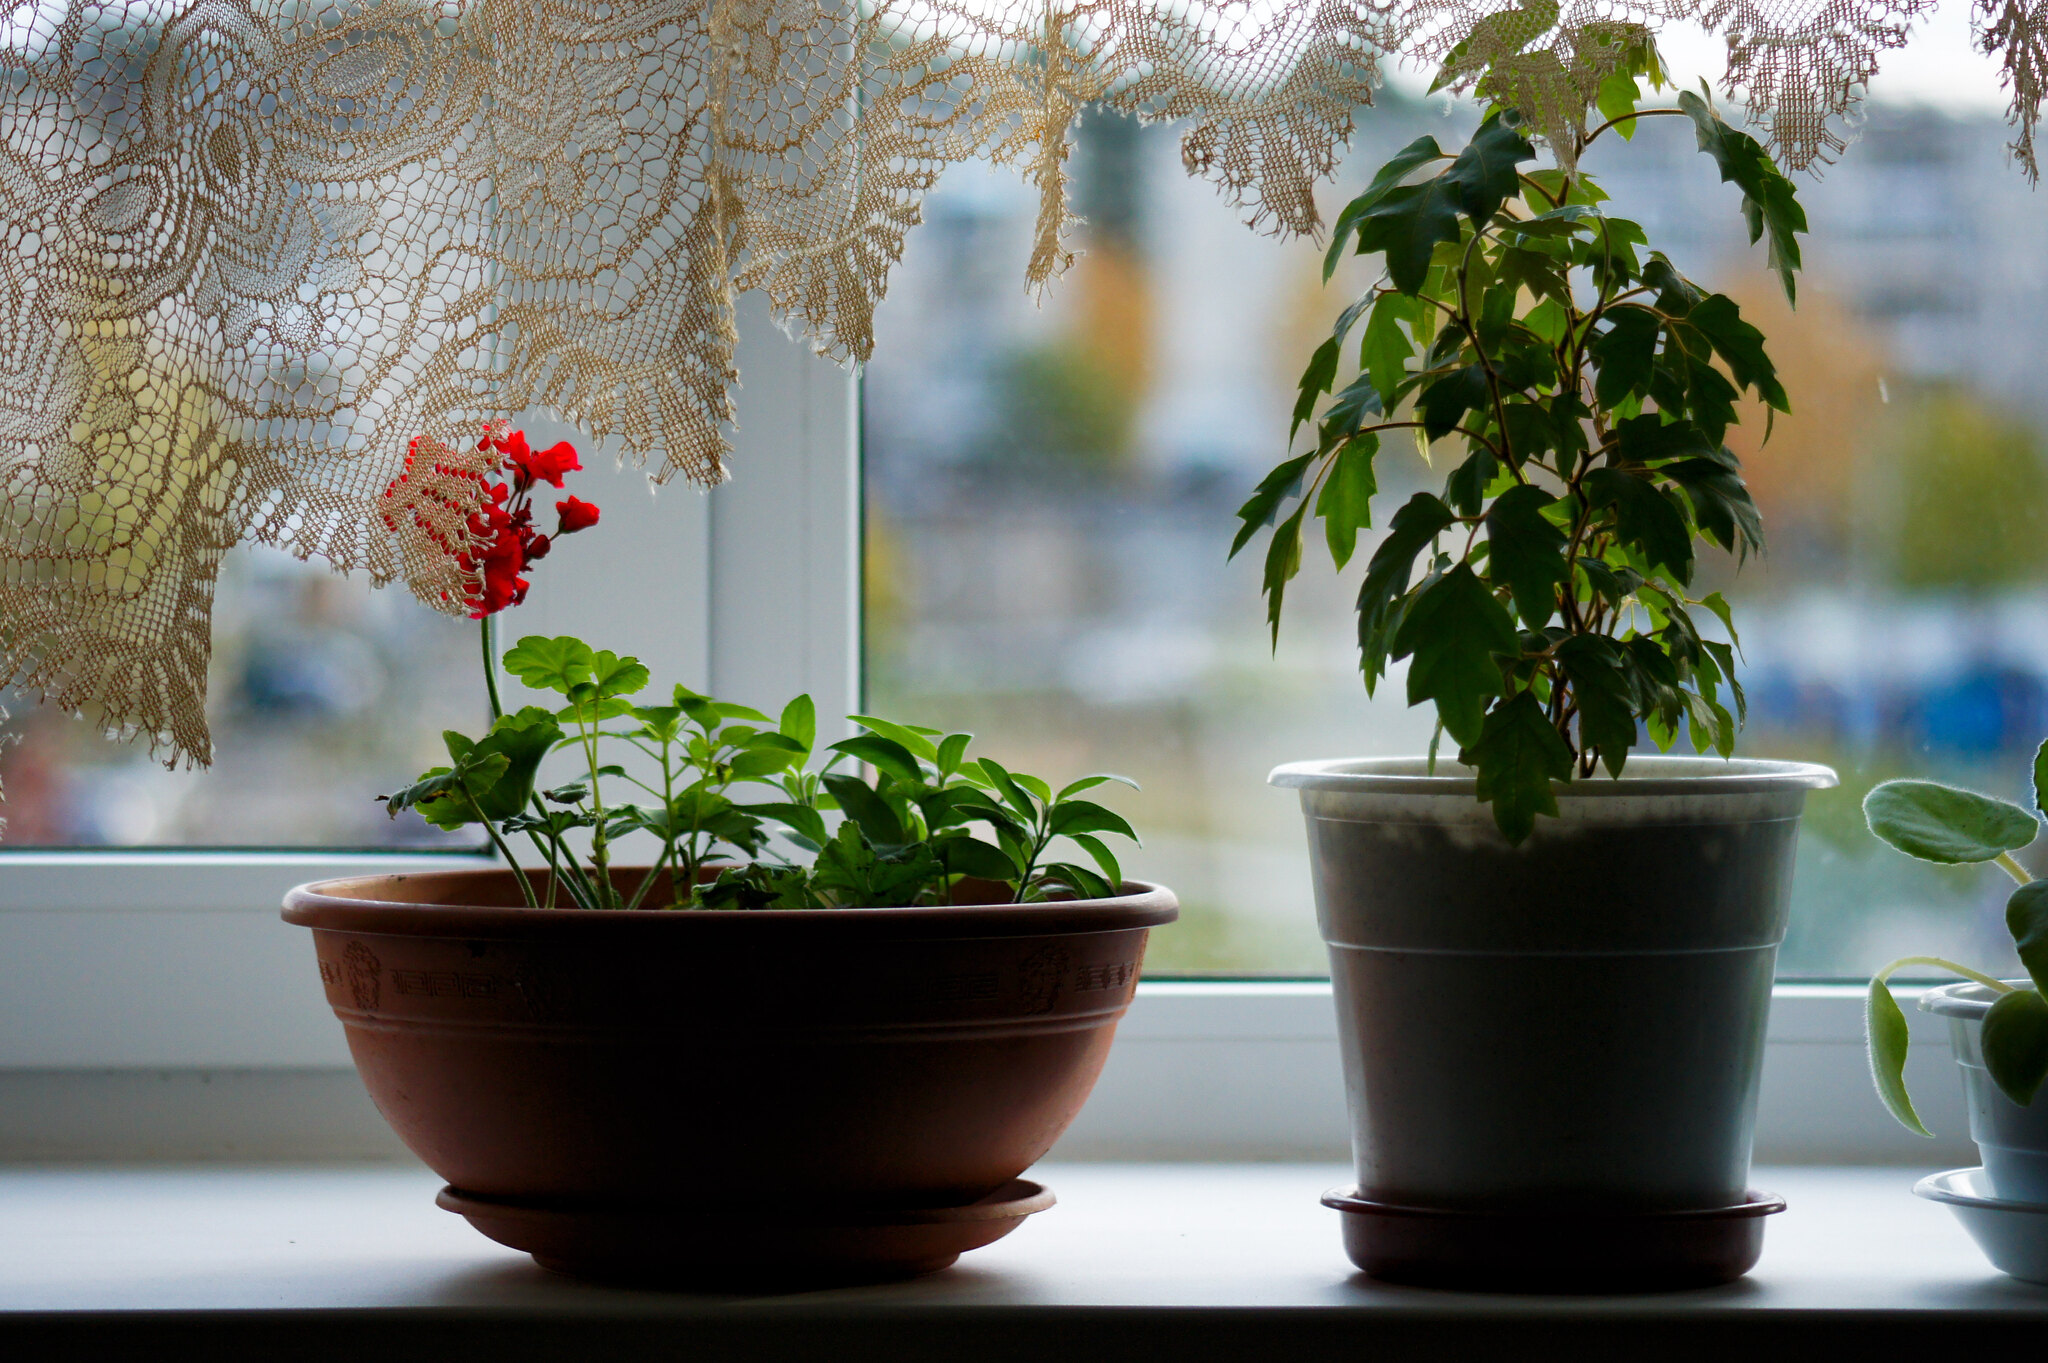potted plant: (281, 440, 1181, 1288), (1301, 24, 1835, 1290)
